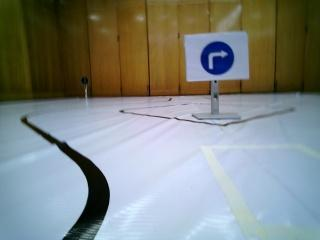right: (190, 34, 247, 77)
